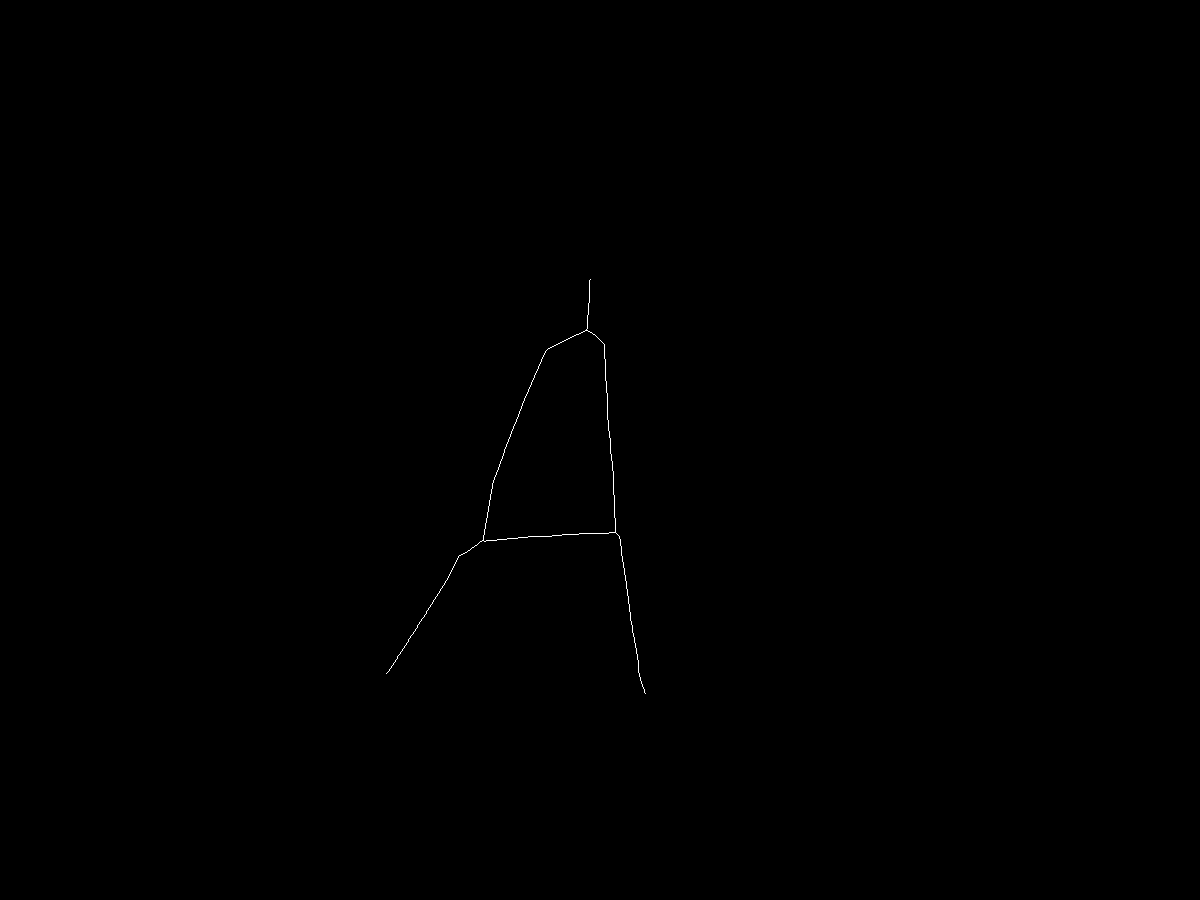dian1: (580, 326, 592, 338)
dian2: (473, 530, 492, 549)
dian3: (383, 666, 403, 686)
dian4: (606, 523, 627, 544)
dian5: (634, 683, 660, 709)
